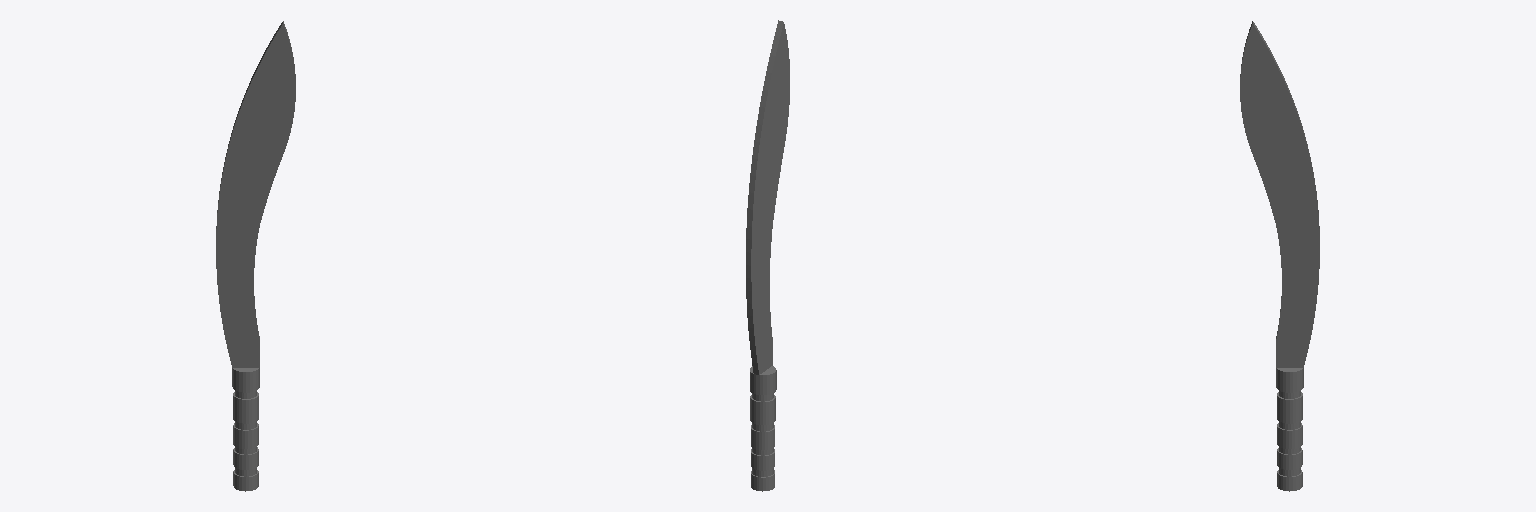
The robot description file, URDF, robot "object":
<?xml version="1.0"?>
<robot name="object">
  <link name="object">
    <visual>
      <origin xyz="0 0 0"/>
      <geometry>
        <mesh
          filename="../../mesh/oakink_virtual/knife_s252.stl" />
      </geometry>
      <material name="mat">
        <color rgba="0.5 0.5 0.5 1"/>
      </material>
    </visual>

    <collision>
      <origin xyz="0 0 0"/>
      <geometry>
        <mesh
          filename="../../mesh/oakink_virtual/knife_s252.stl" />
      </geometry>
    </collision>
  </link>
</robot>

--- Render facts (derived) ---
The picture shows the robot from 3 angles, left to right: view 1: azimuth 90°, elevation 25°; view 2: azimuth 150°, elevation 25°; view 3: azimuth 270°, elevation 25°; orthographic projection.
Robot: object — 1 links, 0 joints (none); root link object; default pose: all joints at 0.
Visible links, largest first — view 1: object; view 2: object; view 3: object.
Link boxes in pixels (x1=…): object: x1=216, y1=21, x2=295, y2=491; object: x1=746, y1=20, x2=789, y2=491; object: x1=1240, y1=21, x2=1319, y2=491.
Size in the robot's own frame: 0.0111 by 0.0321 by 0.2056 metres.
1 mesh visuals loaded from 1 distinct referenced files (1 binary STL).